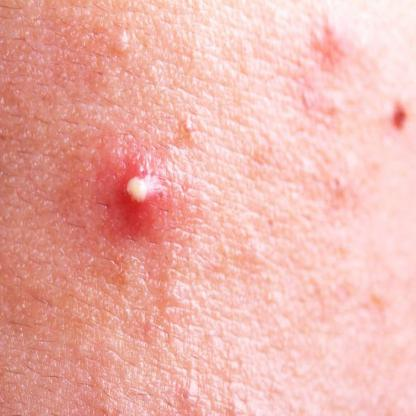Fire ant: (105, 155, 170, 228)
